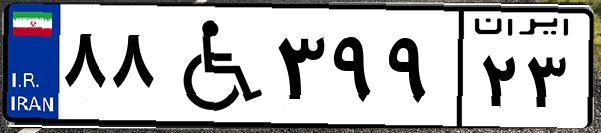2: (475, 38, 525, 113)
3: (270, 28, 330, 110), (525, 38, 570, 115)
8: (57, 26, 110, 100), (110, 28, 158, 98)
9: (385, 28, 445, 110), (330, 28, 385, 110)
ژ (معلولین و جانبازان): (158, 12, 270, 120)
